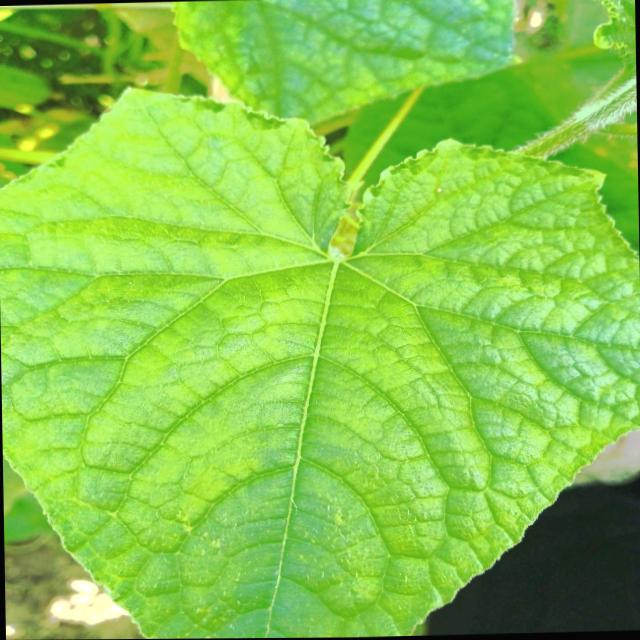Fresh-Leaf: (0, 83, 640, 639)
